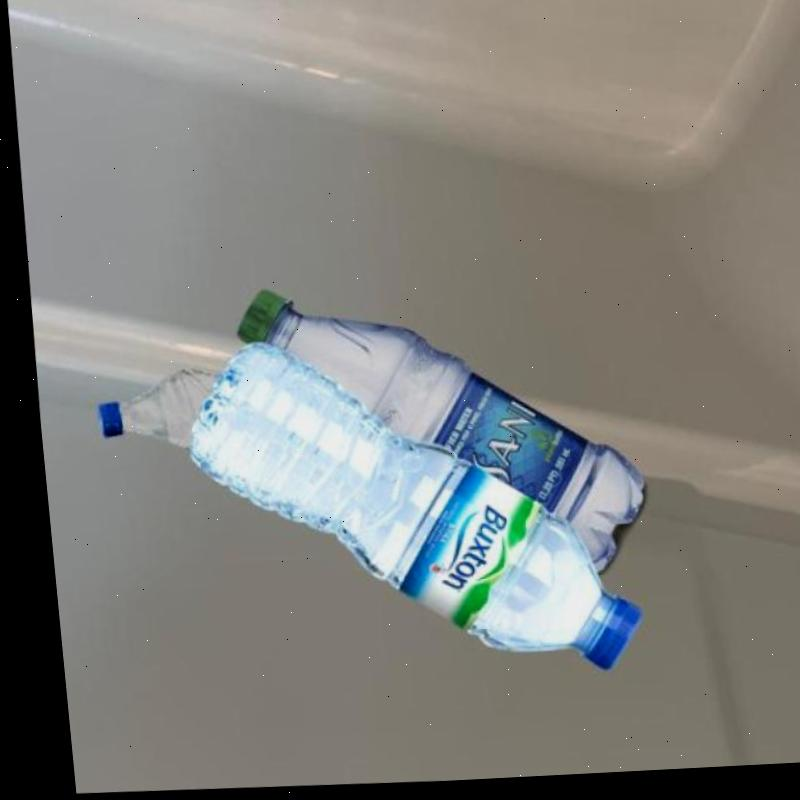botella: (167, 326, 641, 694), (221, 275, 647, 593), (85, 365, 217, 453)
